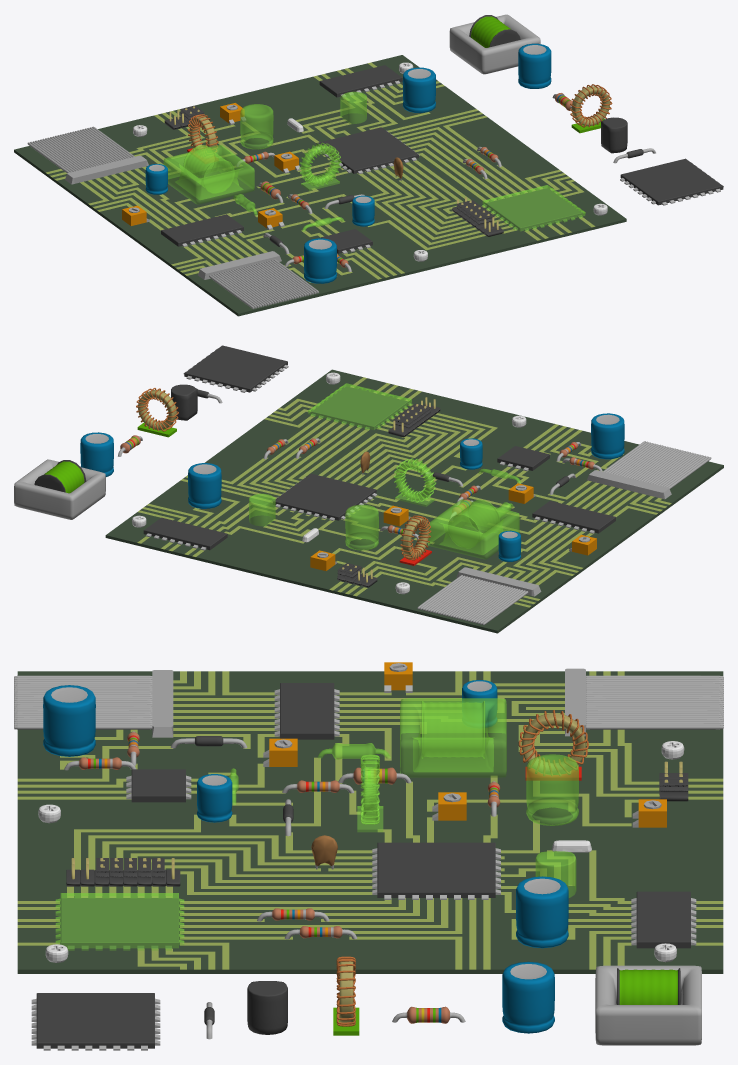
The model's file is circuitboard1.fbx.
3 renders of one model, top to bottom at view 1: azimuth 30°, elevation 25°; view 2: azimuth 150°, elevation 25°; view 3: azimuth 270°, elevation 25°, orthographic. The views are drawn at different scales.
Visible parts, largest first — view 1: Circuito, transformadorVerde, transformador, integrado, integradoVerde, capacitor, capacitorVerde, inductor, inductorVerde, transistor, transistorVerde; view 2: Circuito, transformador, transformadorVerde, integrado, integradoVerde, capacitorVerde, inductor, capacitor, inductorVerde, transistorVerde, transistor; view 3: Circuito, transformador, transformadorVerde, integrado, integradoVerde, capacitor, capacitorVerde, transistor, inductor, inductorVerde, transistorVerde, resistencia (+1 smaller).
Boxes of the visible parts, x1,y1,x2,y2 form: Circuito: [14, 55, 626, 316]; transformadorVerde: [163, 145, 254, 204]; transformador: [449, 14, 540, 74]; integrado: [620, 158, 723, 205]; integradoVerde: [482, 185, 585, 231]; capacitor: [518, 43, 551, 88]; capacitorVerde: [240, 104, 273, 149]; inductor: [569, 84, 612, 133]; inductorVerde: [299, 142, 341, 190]; transistor: [601, 117, 627, 153]; transistorVerde: [340, 91, 366, 123]; Circuito: [105, 369, 723, 633]; transformador: [14, 459, 105, 519]; transformadorVerde: [428, 499, 519, 559]; integrado: [183, 345, 288, 392]; integradoVerde: [307, 383, 412, 430]; capacitorVerde: [345, 504, 378, 550]; inductor: [136, 388, 178, 437]; capacitor: [80, 432, 113, 476]; inductorVerde: [393, 458, 436, 506]; transistorVerde: [249, 493, 275, 526]; transistor: [171, 384, 197, 420]; Circuito: [14, 662, 723, 973]; transformador: [595, 965, 701, 1045]; transformadorVerde: [400, 698, 506, 777]; integrado: [31, 993, 160, 1050]; integradoVerde: [55, 893, 184, 950]; capacitor: [502, 961, 554, 1033]; capacitorVerde: [526, 754, 578, 825]; transistor: [247, 981, 287, 1034]; inductor: [333, 956, 359, 1035]; inductorVerde: [357, 754, 383, 831]; transistorVerde: [535, 851, 576, 897]; resistencia: [392, 1006, 465, 1023].
Bounding box in the file's own units: 1272 × 108 × 1006.
